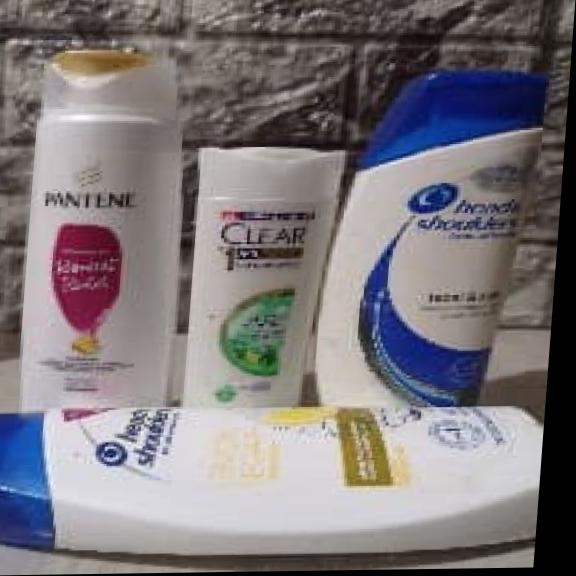Plastik: (0, 407, 541, 556), (321, 70, 543, 404), (22, 51, 181, 407), (182, 150, 344, 407)
